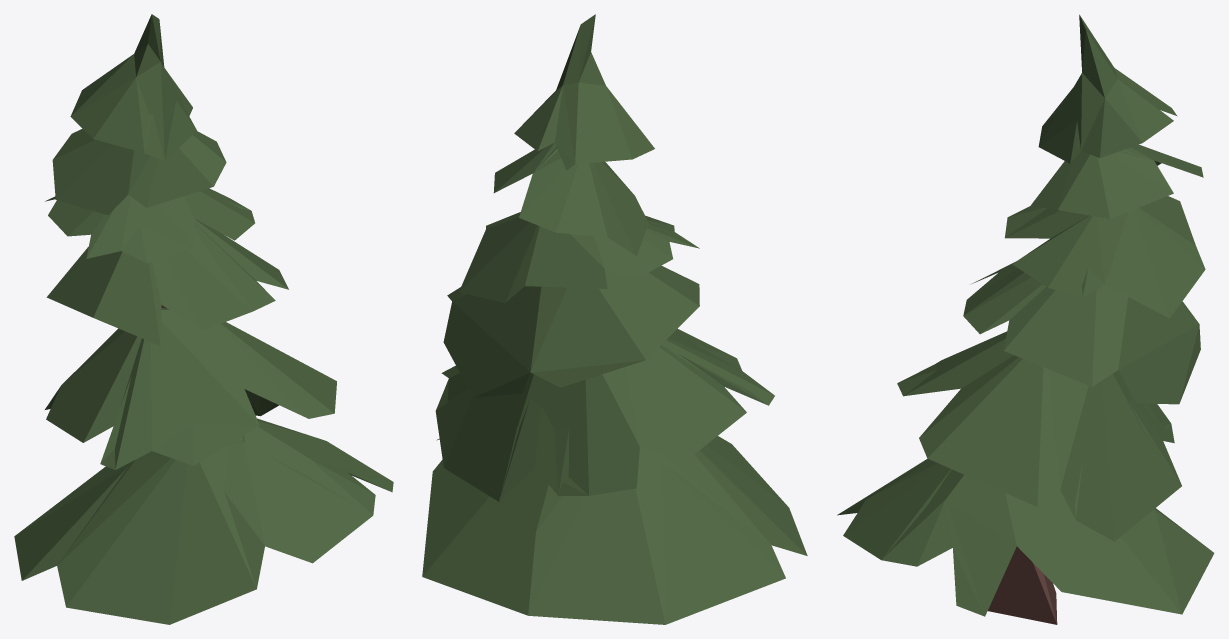
Rendered from pine-tree-3.gltf.
3 views of the same model, side by side, from view 1: azimuth 30°, elevation 25°; view 2: azimuth 150°, elevation 25°; view 3: azimuth 270°, elevation 25° (orthographic). The views are drawn at different scales.
Parts seen in each view (by area): view 1: PineTree_3_Cylinder.025; view 2: PineTree_3_Cylinder.025; view 3: PineTree_3_Cylinder.025.
Boxes of the visible parts, box(x1,y1,x2,y2) form: PineTree_3_Cylinder.025: box(14, 14, 393, 624); PineTree_3_Cylinder.025: box(422, 14, 807, 624); PineTree_3_Cylinder.025: box(837, 14, 1214, 624).
Bounding box in the file's own units: 0.0217 × 0.0331 × 0.0194.
